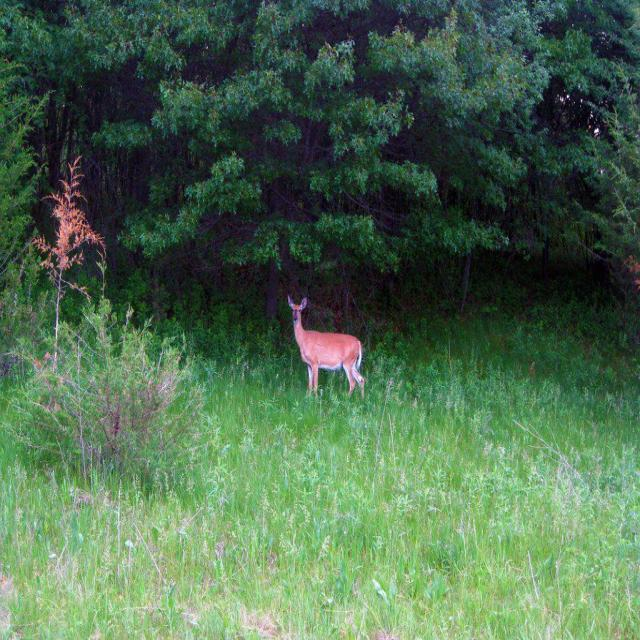Deer: (288, 291, 366, 400)
